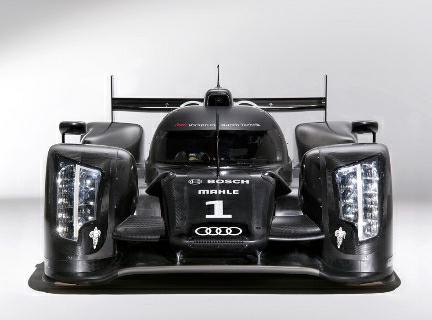奥迪-R18: (28, 60, 408, 302)
